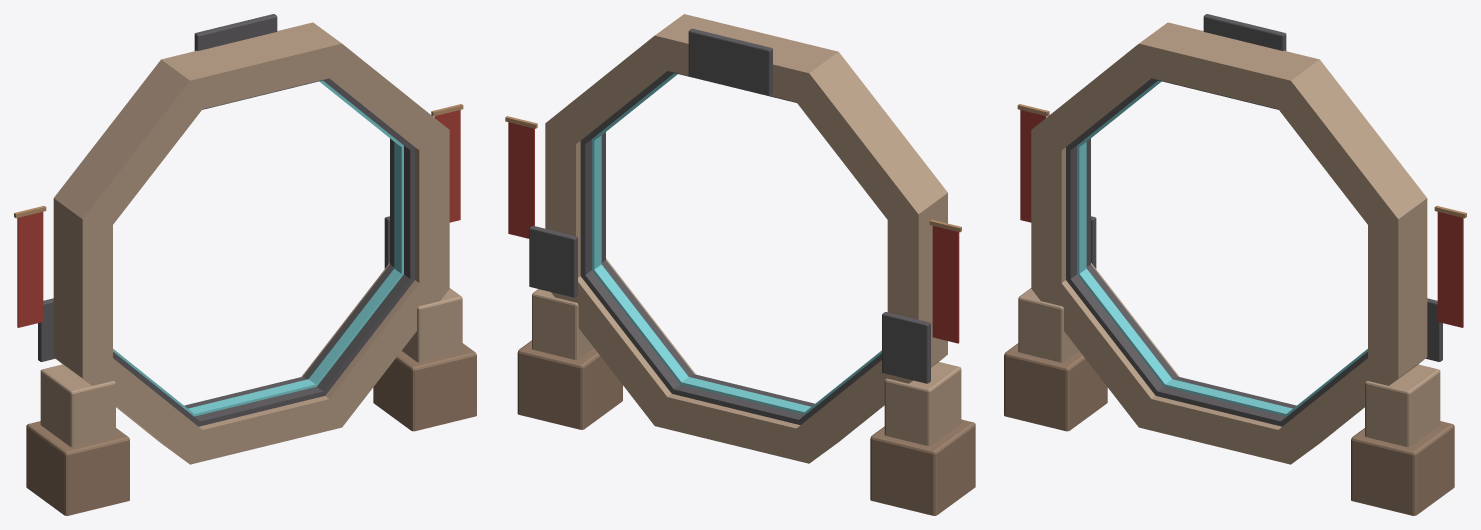
File: rn2-canion-portal.glb
3 renders of one model, left to right at view 1: azimuth 30°, elevation 25°; view 2: azimuth 150°, elevation 25°; view 3: azimuth 330°, elevation 25°, orthographic.
Visible parts, largest first — view 1: rn2_canion_portal_body, rn2_canion_portal_glow; view 2: rn2_canion_portal_body, rn2_canion_portal_glow; view 3: rn2_canion_portal_body, rn2_canion_portal_glow.
Boxes of the visible parts, x1,y1,x2,y2 form: rn2_canion_portal_body: (14, 14, 476, 515); rn2_canion_portal_glow: (113, 80, 403, 416); rn2_canion_portal_body: (505, 14, 975, 515); rn2_canion_portal_glow: (592, 73, 881, 414); rn2_canion_portal_body: (1004, 14, 1466, 515); rn2_canion_portal_glow: (1077, 80, 1367, 416).
Bounding box in the file's own units: 17.8 × 15.8 × 2.8.
